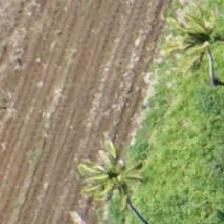coconut_tree: (117, 6, 207, 96), (75, 153, 165, 223)
